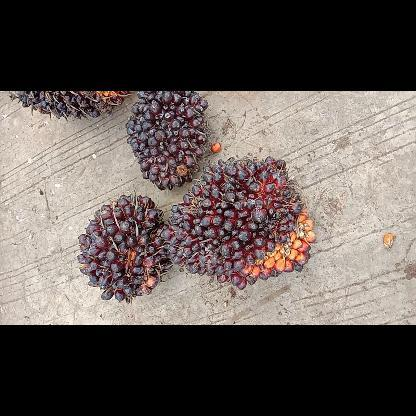TBS mentah: (169, 153, 319, 291), (73, 192, 173, 306), (122, 90, 214, 192)
